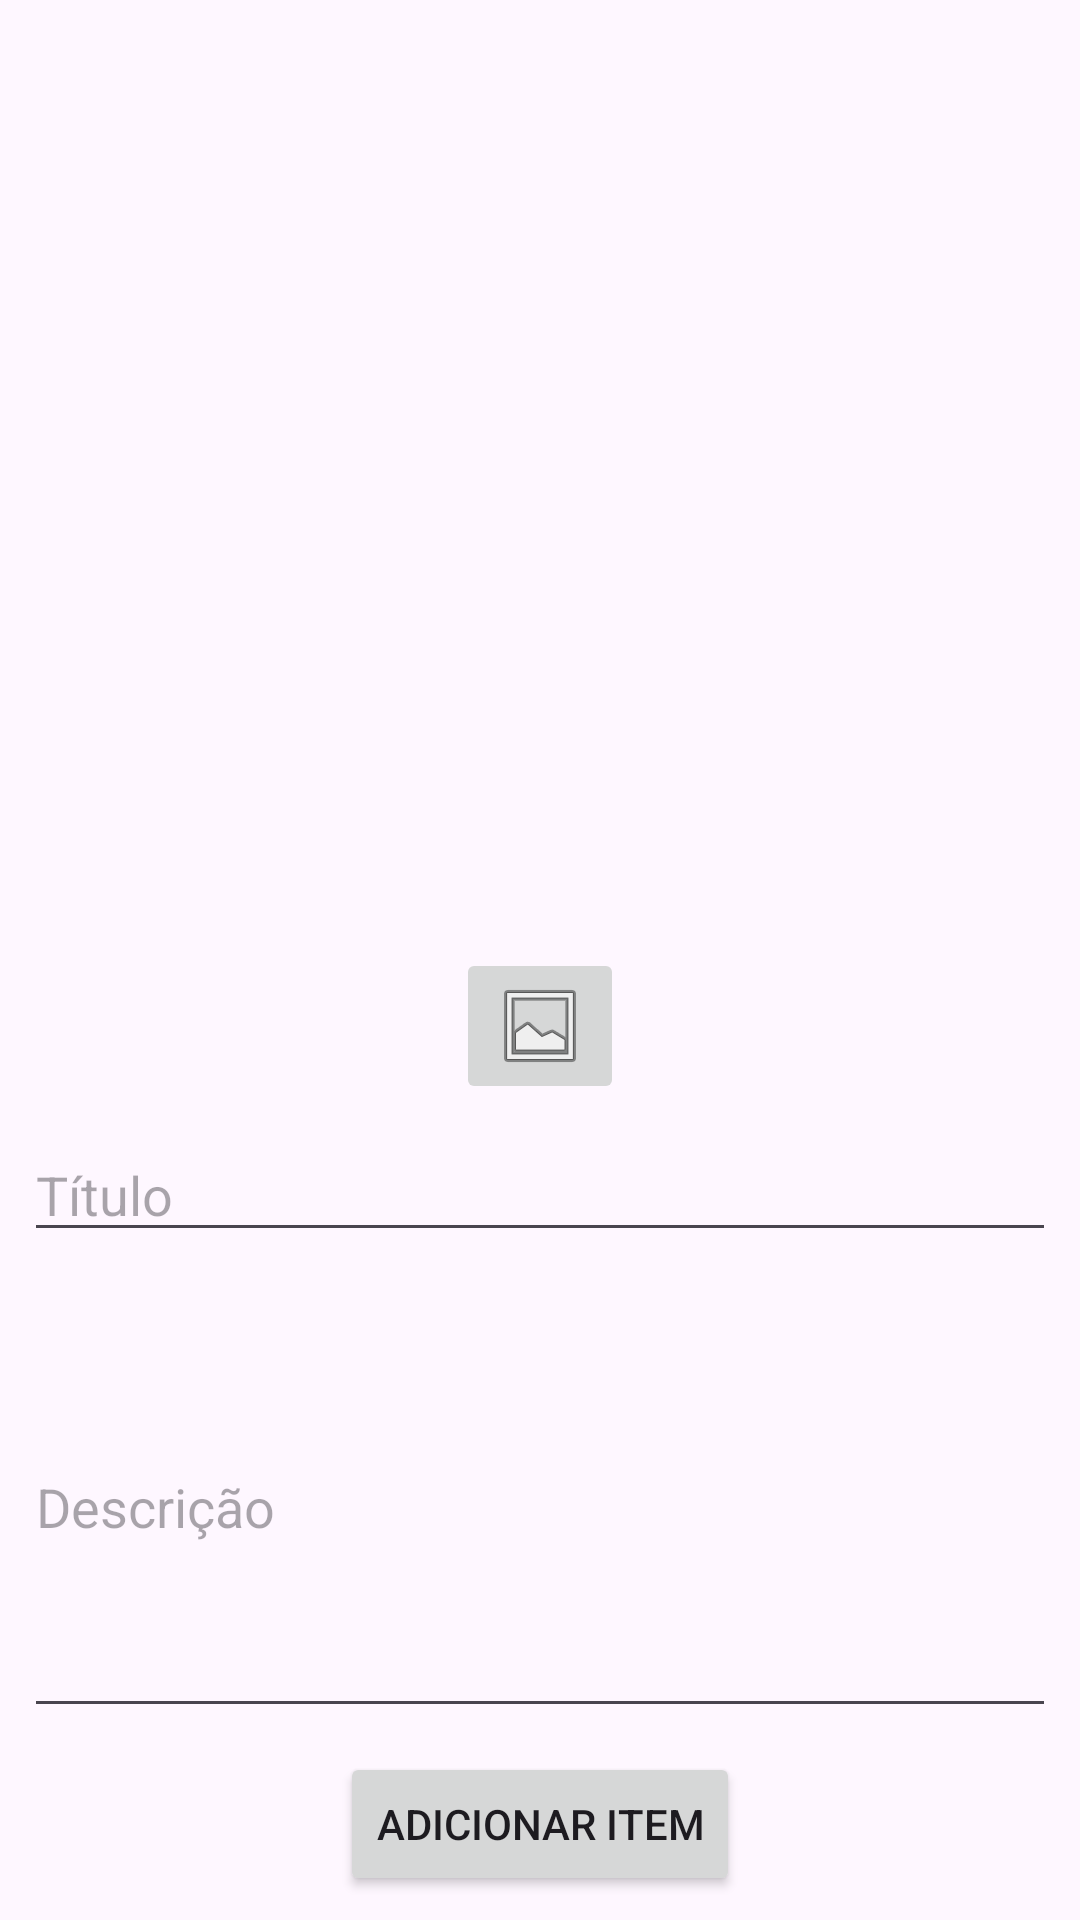

Where icons sit on this 1080×1920 app screen, as (x1, y1, x2, y2):
gallery: (468, 966, 612, 1086)
